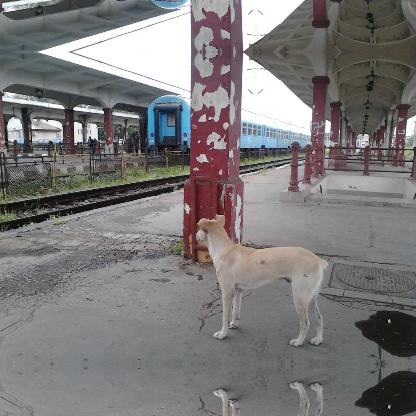Dog: (194, 213, 328, 345), (194, 383, 329, 415)
